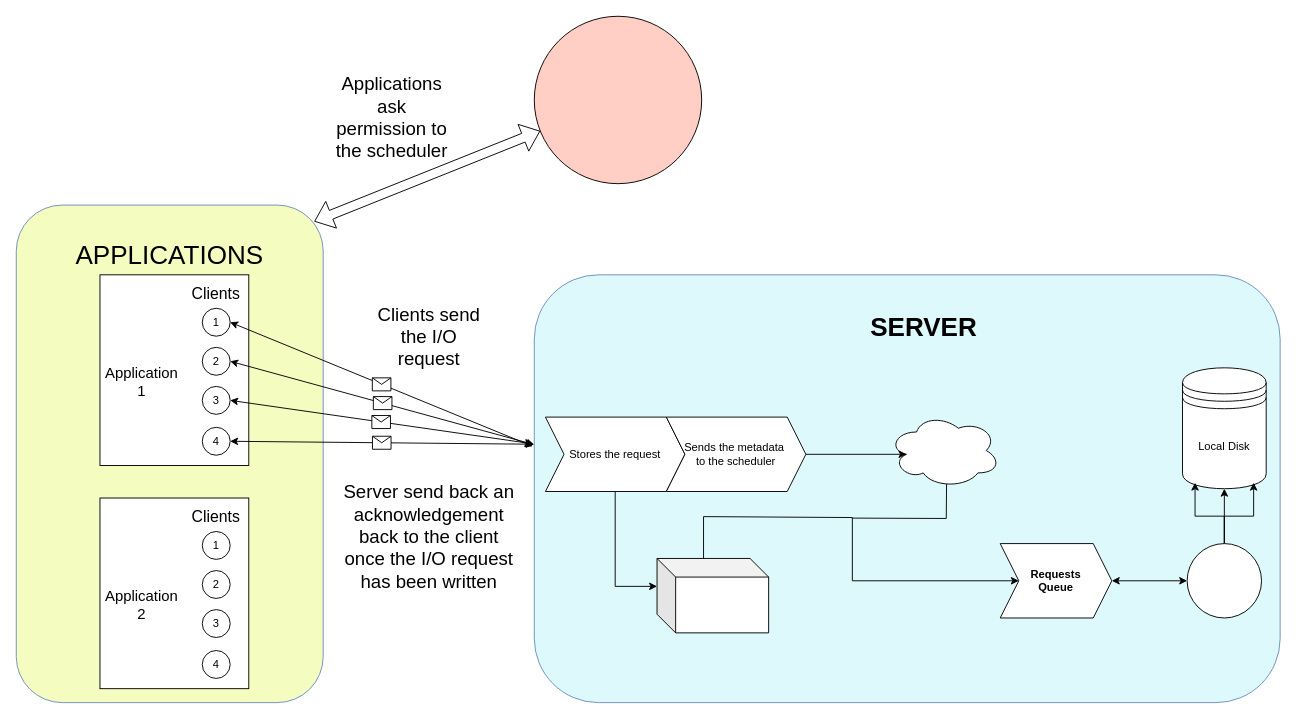
Some shapes in this 1296 by 719 pixel diagram are drawn without their labels. The shapes that lost their labels are listed below. From the top down, each one's box as (x1, y1, x2, y2) in pixels, then its label:
(533, 15, 702, 184): SCHEDULER
(888, 412, 1000, 488): AGIOS
(656, 558, 769, 633): Buffer
(1186, 543, 1262, 618): Thread Pool
